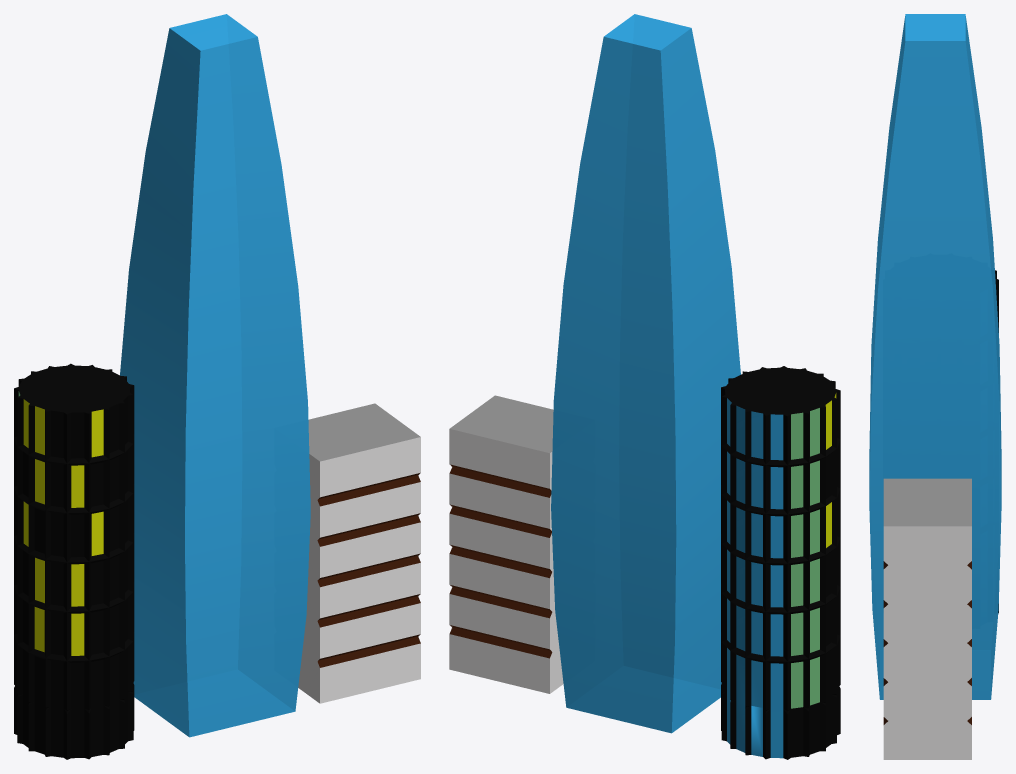
Rendered from souel.FBX.
3 renders of one model, left to right at view 1: azimuth 30°, elevation 25°; view 2: azimuth 150°, elevation 25°; view 3: azimuth 270°, elevation 25°, orthographic. The views are drawn at different scales.
Visible parts, largest first — view 1: Box001, Cylinder001, Box002; view 2: Box001, Cylinder001, Box002; view 3: Box001, Box002.
Part boxes in pixels (box(x1,y1,x2,y2)): Box001: box(120, 14, 310, 737); Cylinder001: box(14, 363, 134, 759); Box002: box(298, 403, 420, 703); Box001: box(551, 14, 740, 733); Cylinder001: box(721, 366, 840, 759); Box002: box(449, 395, 563, 693); Box001: box(869, 14, 1001, 699); Box002: box(883, 478, 971, 759).
Size of the model in its own units: 251 by 437 by 80.85.
